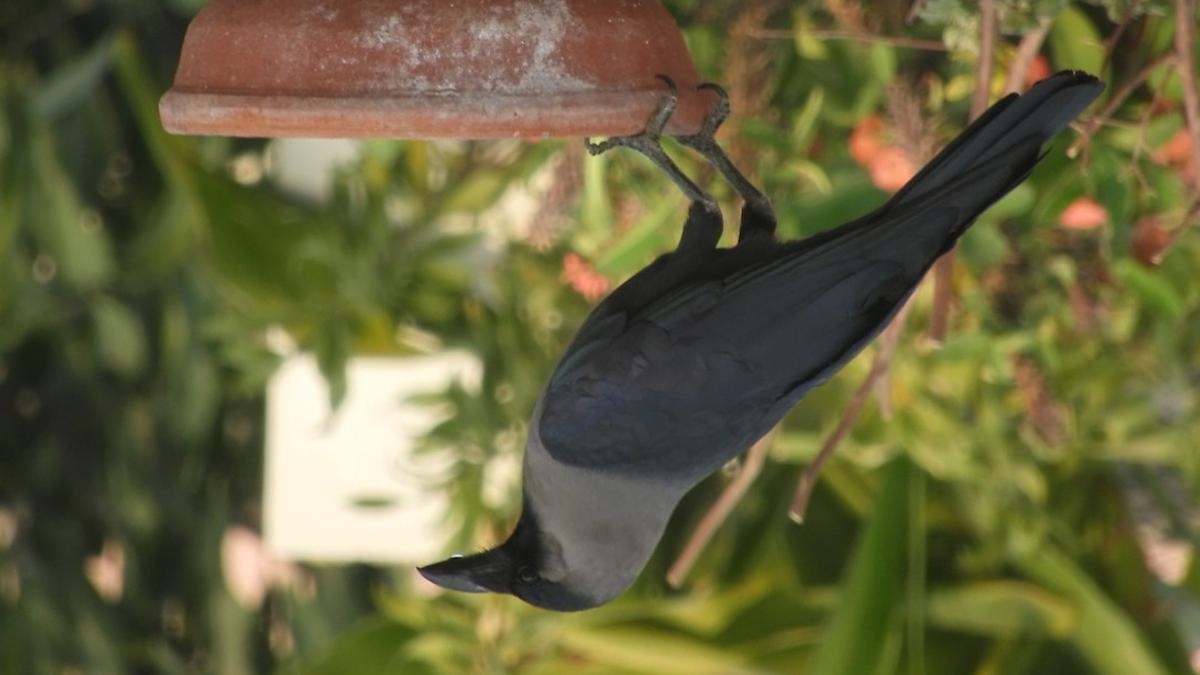crow: (413, 50, 1127, 617)
